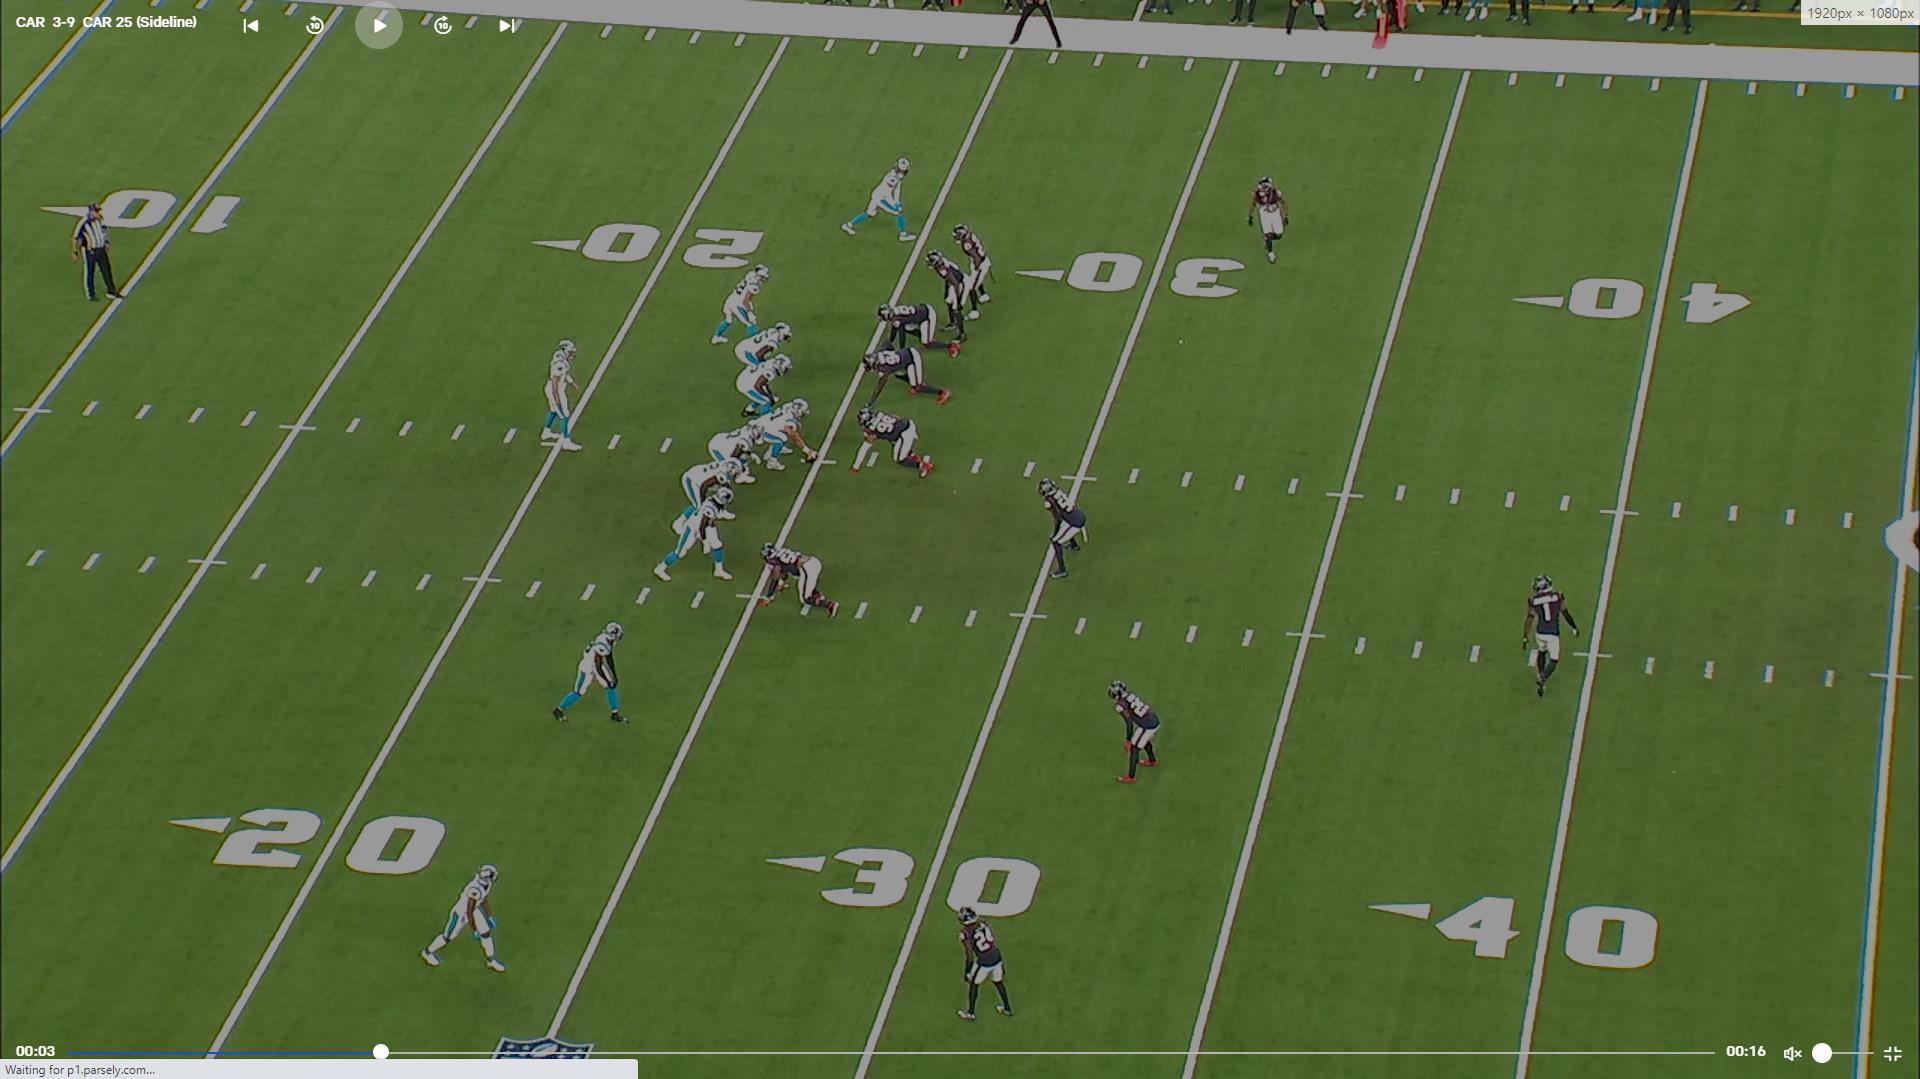player: (417, 858, 511, 977), (545, 616, 631, 730), (948, 901, 1018, 1023), (656, 488, 740, 583), (1106, 673, 1168, 790), (1518, 573, 1572, 702), (838, 153, 914, 244), (760, 540, 847, 618), (850, 403, 933, 483), (859, 344, 950, 408), (545, 332, 594, 450), (1037, 475, 1090, 584), (749, 394, 821, 474), (712, 263, 775, 354), (672, 455, 742, 534), (931, 248, 987, 342), (877, 303, 965, 360), (707, 424, 768, 497), (1248, 172, 1295, 266), (958, 222, 1002, 321), (738, 348, 796, 421), (733, 318, 793, 384)
ref: (74, 199, 121, 306), (1003, 0, 1069, 50)
